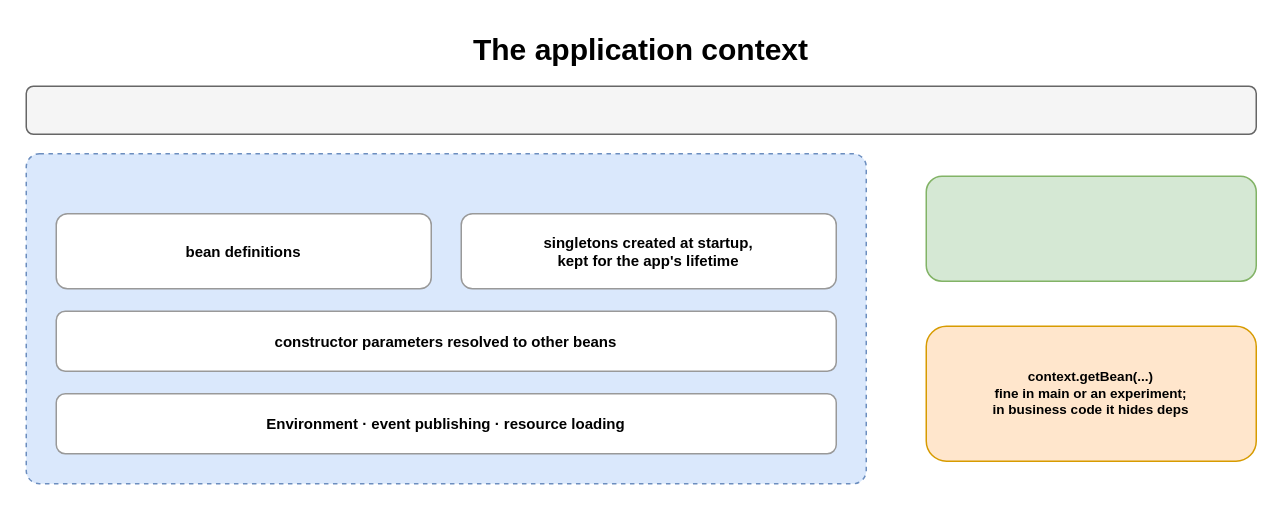
The diagram is 1283 pixels wide and 510 high, and some of its shapes have lost their labels. Each missing label, with the box of its shape:
ApplicationContext: (25, 152, 866, 484)
ApplicationContext: the container that holds and wires the beans: (25, 85, 1256, 134)
injection: how app code gets beans: (925, 175, 1256, 281)
